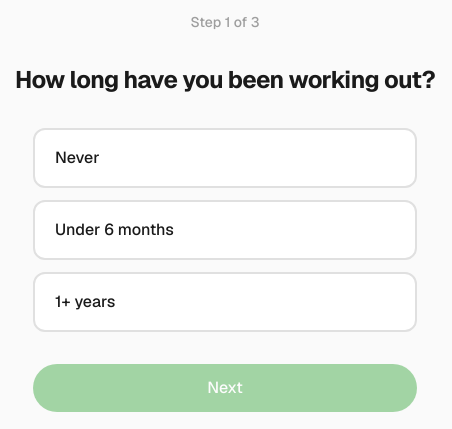
Test: Onboarding Quiz › enables Next button after selecting an option
The image size is (452, 429).
Click the button "Never".
click(77, 158)  # box [33,128,417,188]
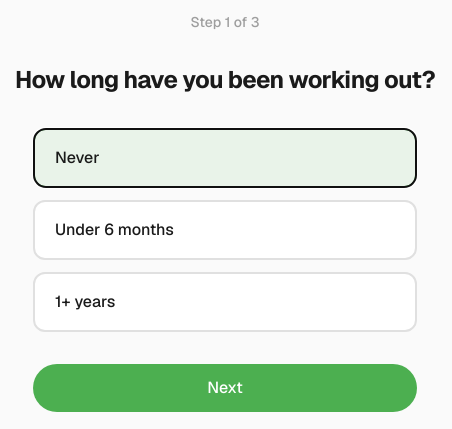
Now the button "Next" is enabled, box [33,364,417,412]
